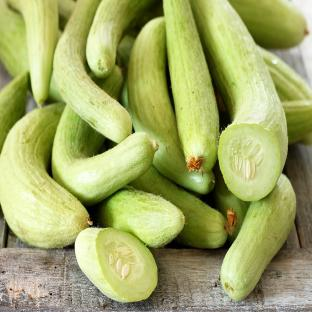Cucumber: (122, 18, 214, 194), (0, 104, 89, 248), (52, 107, 158, 206), (221, 175, 295, 300), (131, 166, 228, 248), (75, 228, 157, 302), (93, 188, 184, 248), (87, 0, 156, 78), (212, 164, 249, 243), (259, 47, 311, 101), (283, 101, 311, 144), (117, 35, 134, 69)
